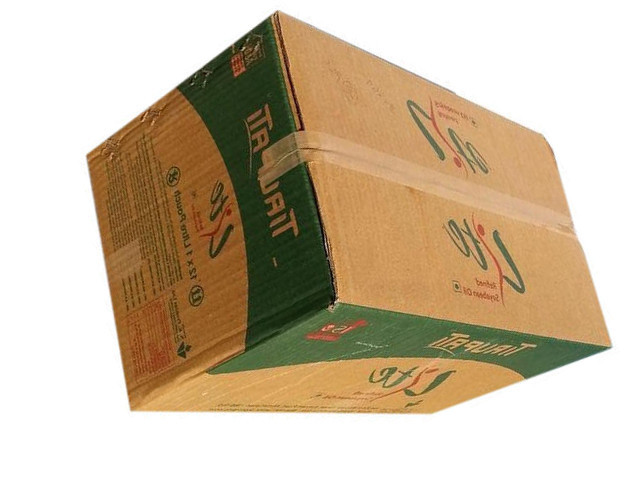cardboard: (85, 8, 607, 411)
